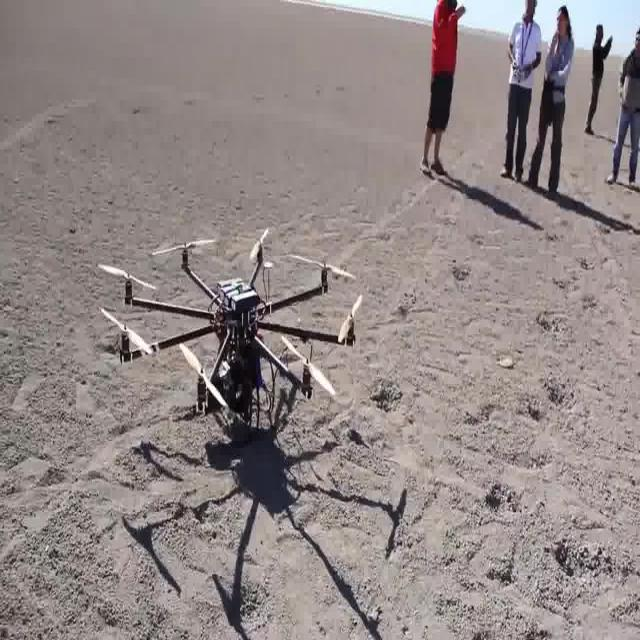drone: (90, 229, 381, 487)
